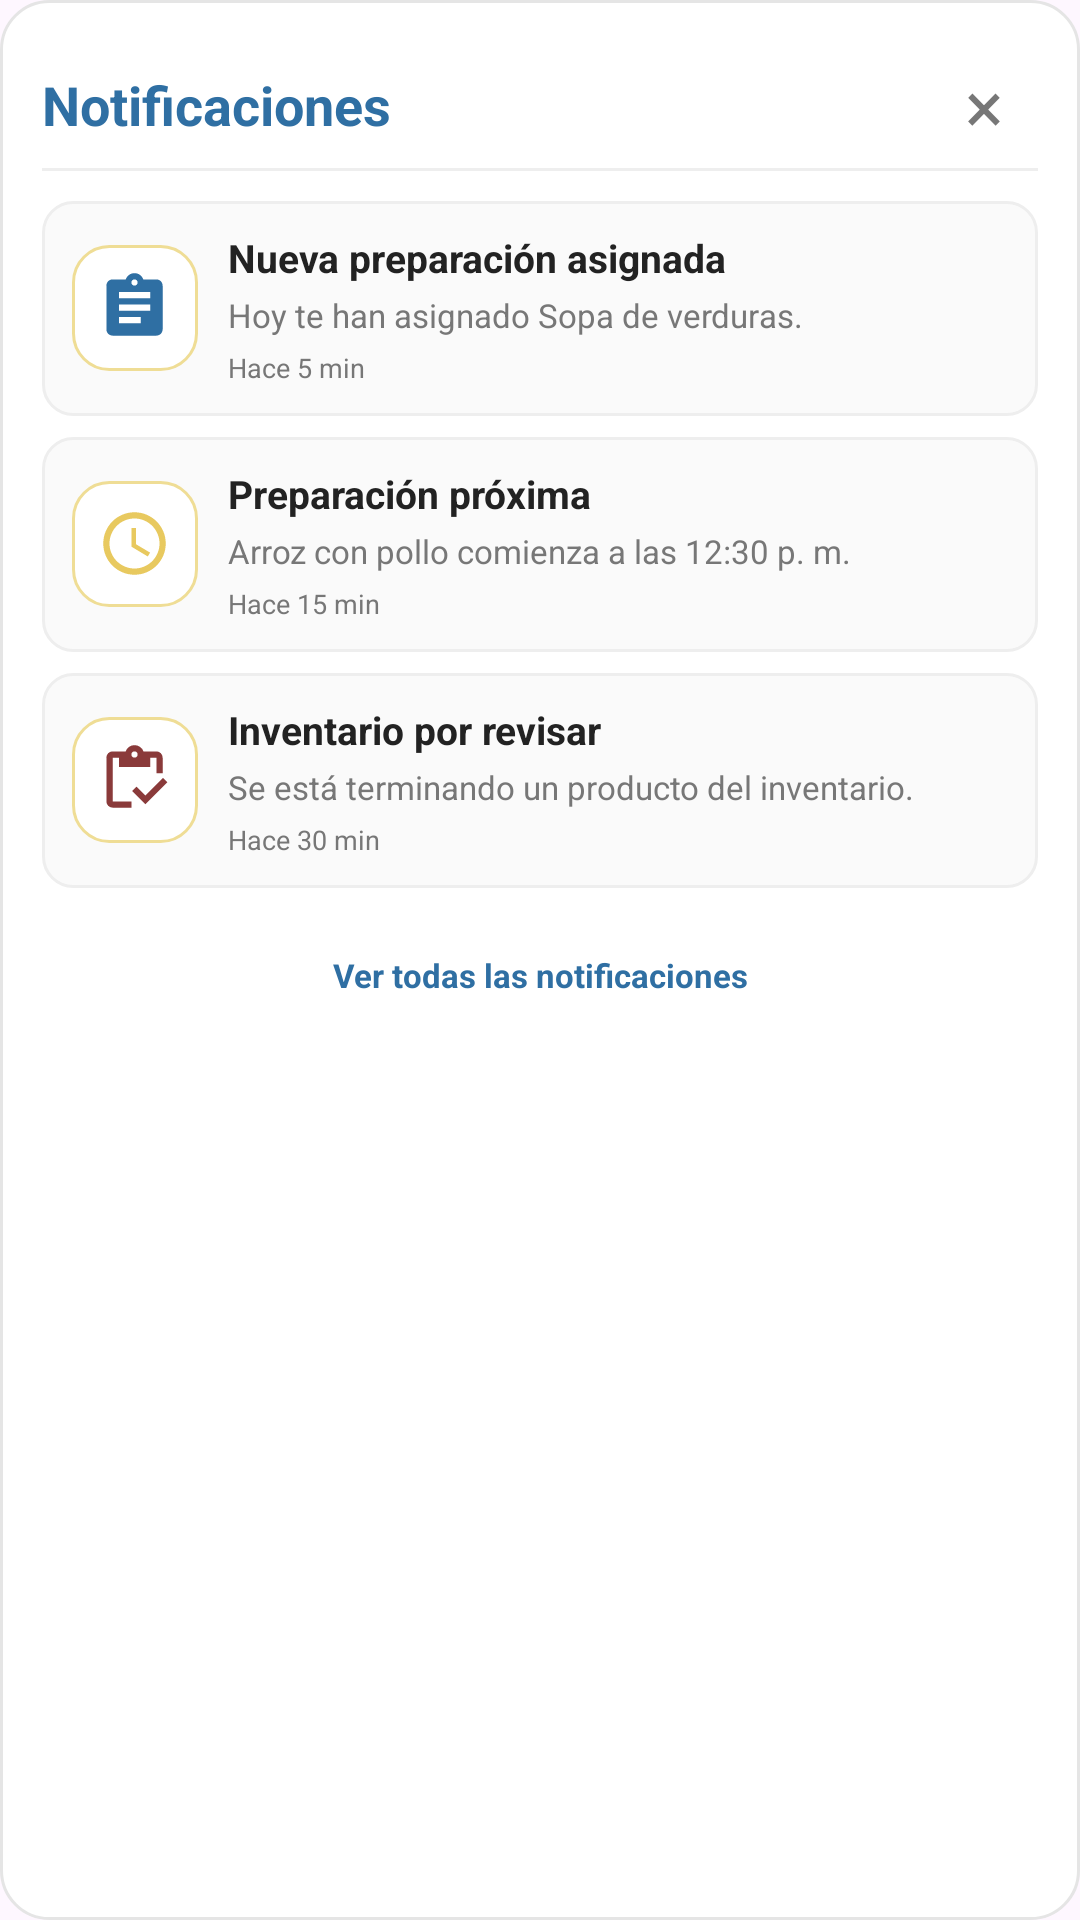

Screen size 1080px×1920px. Icon name, then its box in pixels as (x1, y1, x2, y2):
Asignación: (106, 273, 163, 336)
